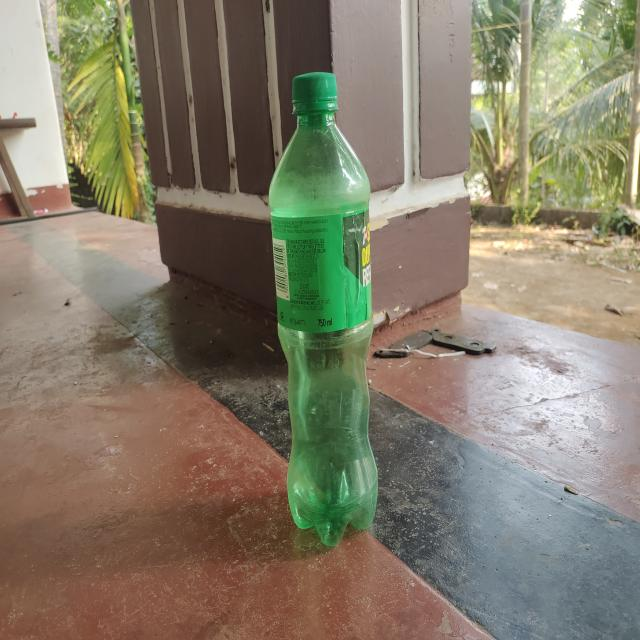plastic: (268, 67, 378, 544)
